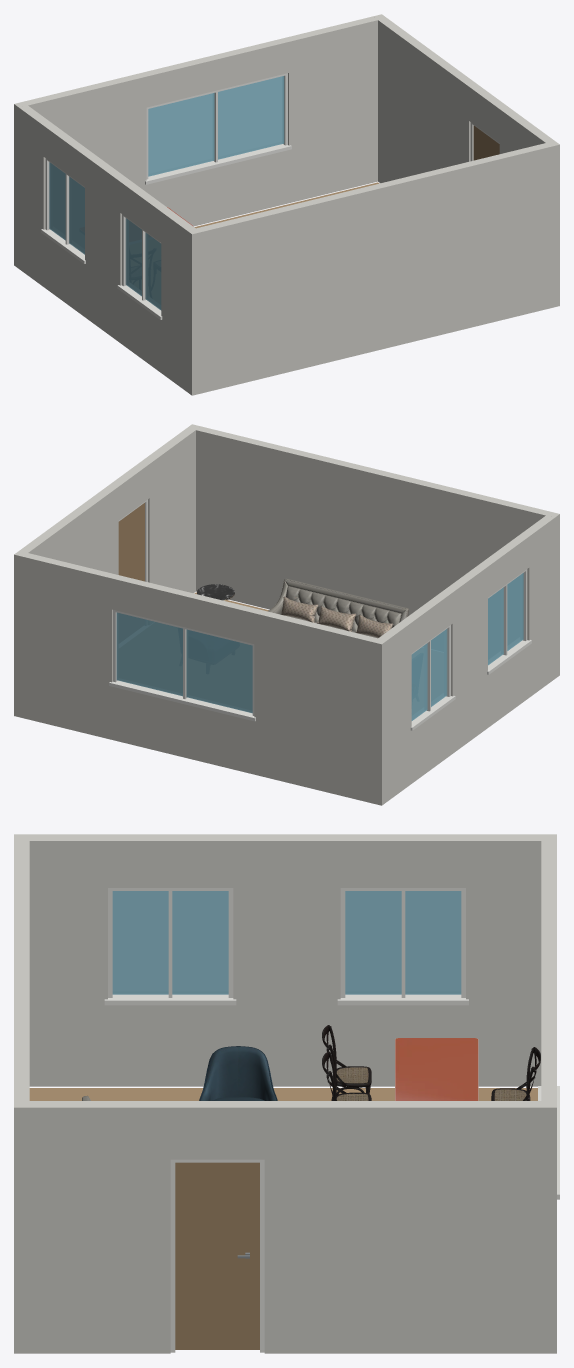
The model's file is layoutgpt.glb.
3 renders of one model, top to bottom at view 1: azimuth 30°, elevation 25°; view 2: azimuth 150°, elevation 25°; view 3: azimuth 270°, elevation 25°, orthographic. The views are drawn at different scales.
Parts seen in each view (by area): view 1: wall|scenesmith_067__R00|0, wall|scenesmith_067__R00|1, wall|scenesmith_067__R00|2, wall|scenesmith_067__R00|3, wall|scenesmith_067__R00|1 Window 0 | glazing, wall|scenesmith_067__R00|2 Window 0 | glazing, wall|scenesmith_067__R00|2 Window 0 | jamb, wall|scenesmith_067__R00|1 Window 0 | jamb, wall|scenesmith_067__R00|3 Door 0 | wood leaf; view 2: wall|scenesmith_067__R00|1, wall|scenesmith_067__R00|0, wall|scenesmith_067__R00|2, wall|scenesmith_067__R00|3, wall|scenesmith_067__R00|1 Window 0 | glazing, wall|scenesmith_067__R00|2 Window 0 | glazing, raw_model, wall|scenesmith_067__R00|2 Window 0 | jamb, wall|scenesmith_067__R00|1 Window 0 | jamb, wall|scenesmith_067__R00|3 Door 0 | wood leaf, raw_model.008; view 3: wall|scenesmith_067__R00|3, wall|scenesmith_067__R00|2, wall|scenesmith_067__R00|2 Window 0 | glazing, wall|scenesmith_067__R00|3 Door 0 | wood leaf, wall|scenesmith_067__R00|2 Window 0 | jamb, raw_model.004, wall|scenesmith_067__R00|0, wall|scenesmith_067__R00|1, floor, raw_model.002, raw_model.005, wall|scenesmith_067__R00|3 Door 0 | jamb.
Part boxes in pixels (bbox=[...]): wall|scenesmith_067__R00|0: bbox=[187, 143, 559, 395]; wall|scenesmith_067__R00|1: bbox=[14, 16, 377, 226]; wall|scenesmith_067__R00|2: bbox=[14, 104, 200, 395]; wall|scenesmith_067__R00|3: bbox=[373, 14, 559, 183]; wall|scenesmith_067__R00|1 Window 0 | glazing: bbox=[148, 76, 284, 176]; wall|scenesmith_067__R00|2 Window 0 | glazing: bbox=[49, 162, 161, 310]; wall|scenesmith_067__R00|2 Window 0 | jamb: bbox=[41, 158, 162, 319]; wall|scenesmith_067__R00|1 Window 0 | jamb: bbox=[145, 73, 291, 184]; wall|scenesmith_067__R00|3 Door 0 | wood leaf: bbox=[473, 125, 499, 160]; wall|scenesmith_067__R00|1: bbox=[23, 553, 386, 803]; wall|scenesmith_067__R00|0: bbox=[196, 426, 559, 615]; wall|scenesmith_067__R00|2: bbox=[373, 514, 559, 805]; wall|scenesmith_067__R00|3: bbox=[14, 424, 200, 717]; wall|scenesmith_067__R00|1 Window 0 | glazing: bbox=[116, 612, 252, 713]; wall|scenesmith_067__R00|2 Window 0 | glazing: bbox=[411, 573, 523, 720]; raw_model: bbox=[268, 578, 408, 638]; wall|scenesmith_067__R00|2 Window 0 | jamb: bbox=[410, 569, 531, 730]; wall|scenesmith_067__R00|1 Window 0 | jamb: bbox=[109, 610, 255, 721]; wall|scenesmith_067__R00|3 Door 0 | wood leaf: bbox=[118, 503, 144, 581]; raw_model.008: bbox=[197, 584, 234, 600]; wall|scenesmith_067__R00|3: bbox=[14, 1101, 556, 1353]; wall|scenesmith_067__R00|2: bbox=[29, 834, 541, 1086]; wall|scenesmith_067__R00|2 Window 0 | glazing: bbox=[112, 891, 461, 994]; wall|scenesmith_067__R00|3 Door 0 | wood leaf: bbox=[175, 1162, 259, 1349]; wall|scenesmith_067__R00|2 Window 0 | jamb: bbox=[104, 888, 468, 1005]; raw_model.004: bbox=[395, 1038, 478, 1100]; wall|scenesmith_067__R00|0: bbox=[14, 834, 29, 1100]; wall|scenesmith_067__R00|1: bbox=[541, 834, 556, 1100]; floor: bbox=[29, 1088, 537, 1100]; raw_model.002: bbox=[199, 1046, 277, 1100]; raw_model.005: bbox=[322, 1025, 540, 1100]; wall|scenesmith_067__R00|3 Door 0 | jamb: bbox=[170, 1159, 264, 1352].
Bounding box in the file's own units: 6.23 × 2.61 × 5.23.
Materials: 12 (6 with a texture image).
